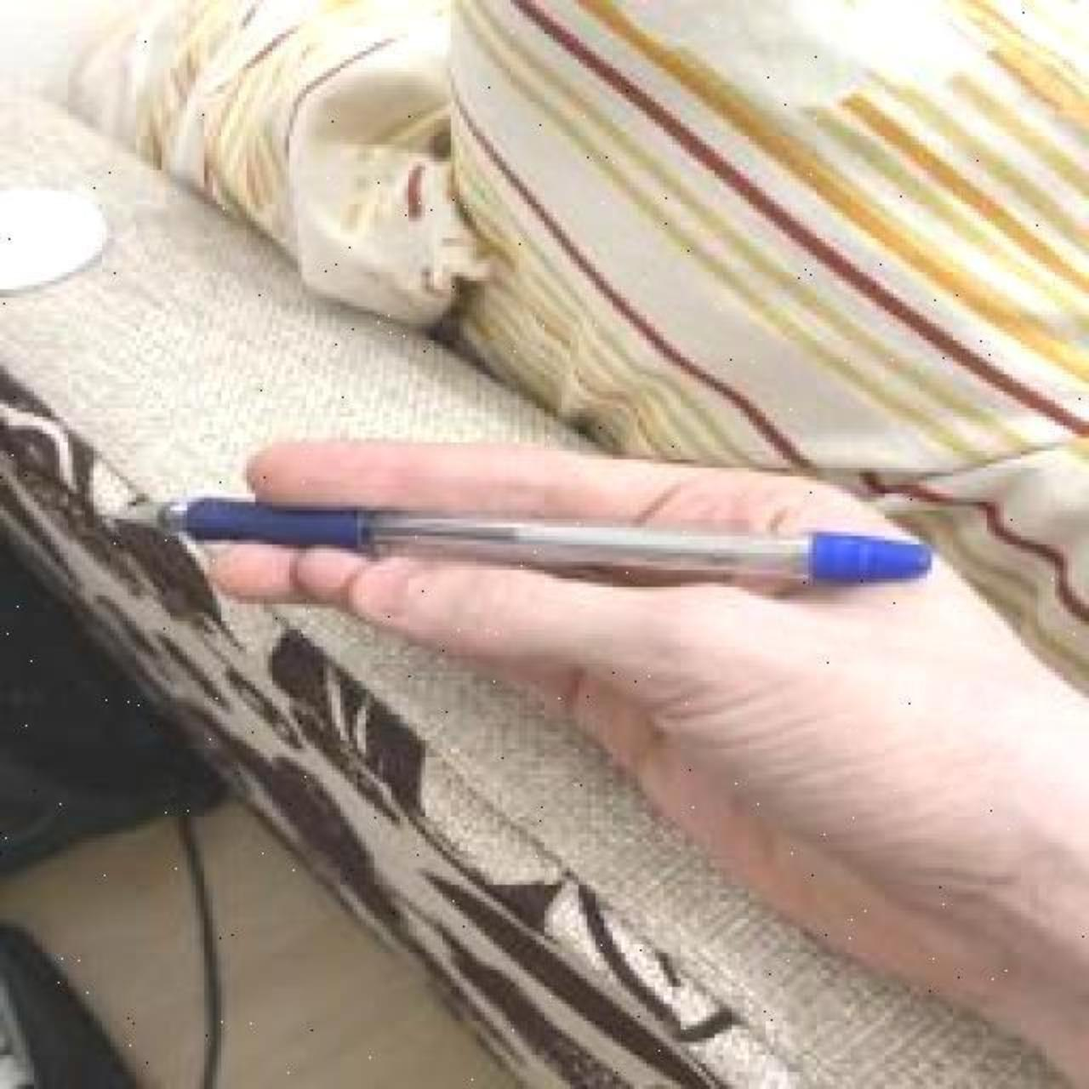pen: (90, 493, 932, 584)
